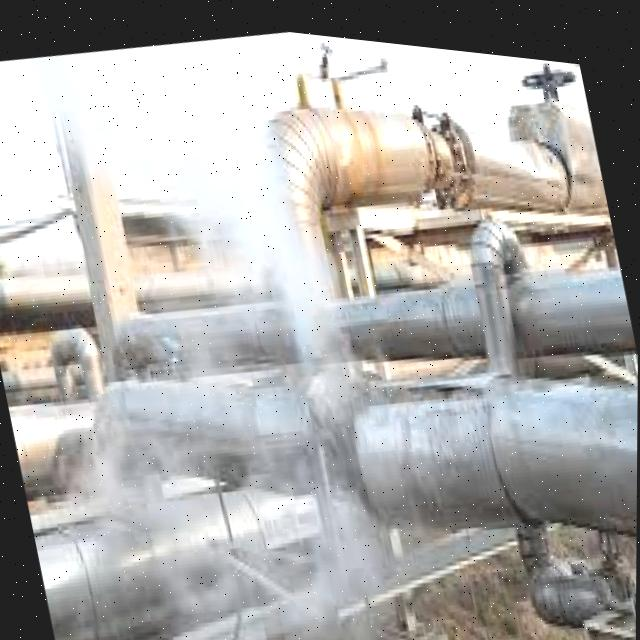corrosion: (216, 179, 477, 506)
